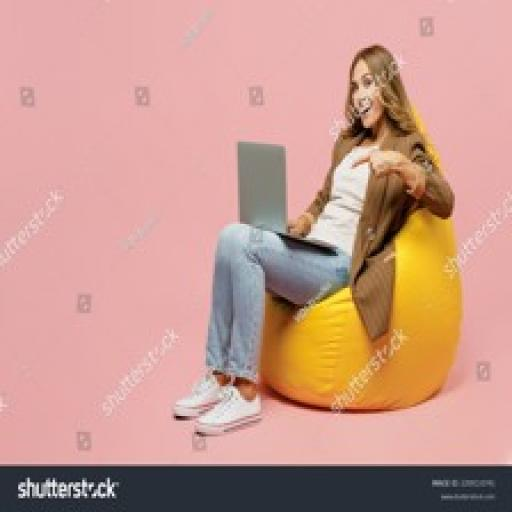human: (171, 38, 470, 440)
